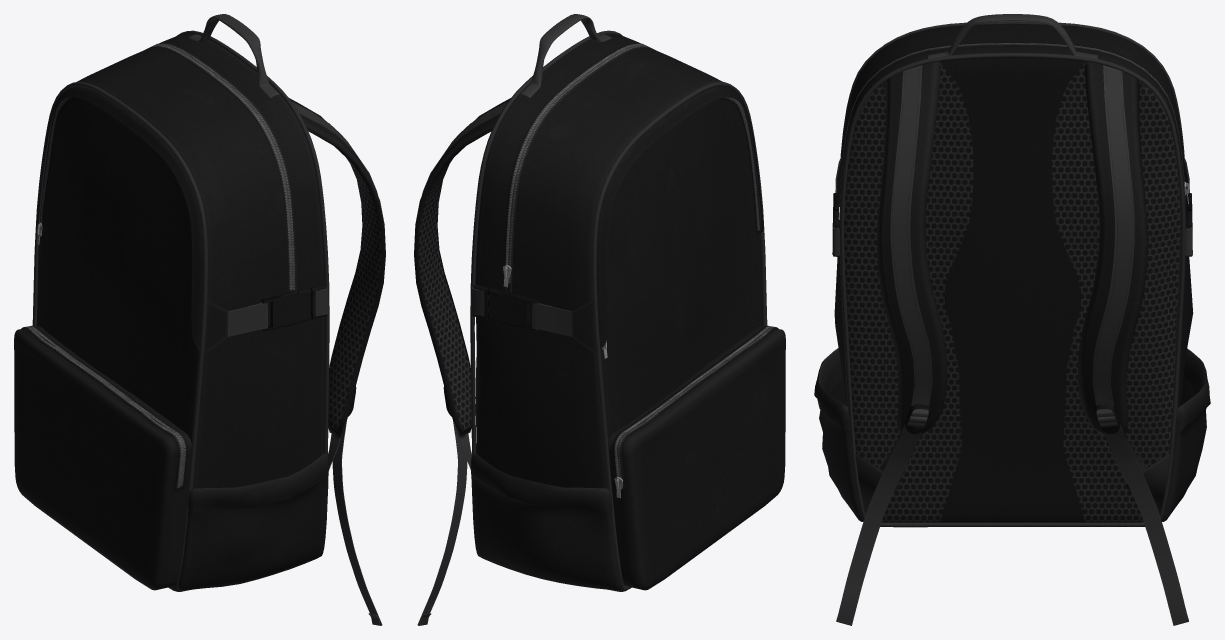
3 views of the same model, side by side, from view 1: azimuth 30°, elevation 25°; view 2: azimuth 150°, elevation 25°; view 3: azimuth 270°, elevation 25° (orthographic). The views are drawn at different scales.
Parts seen in each view (by area): view 1: Bag Base.007_3, Bag Base.014_8, Bag Base.009_4, Straps.001_17, Retopo_Lining 2.001_13, Bag Base.010_5, Bag Base.011_6, Adjustment Straps.001_2, Side Straps.001_15, Handle.001_10, Female Buckle.001_9, Bag Base.013_7 (+1 smaller); view 2: Bag Base.007_3, Bag Base.014_8, Bag Base.009_4, Straps.001_17, Retopo_Lining 2.001_13, Bag Base.010_5, Bag Base.011_6, Adjustment Straps.001_2, Side Straps.001_15, Handle.001_10, Female Buckle.001_9, Bag Base.013_7 (+1 smaller); view 3: Bag Base.007_3, Straps.001_17, Strap Adjustment Holder.001_16, Retopo_Lining 2.001_13, Bag Base.009_4, Adjustment Straps.001_2, Adjustment Strap Connectctors.001_1, Handle.001_10, Bag Base.011_6, Adjustment Bukle.001_0.
Boxes of the visible parts, x1,y1,x2,y2 form: Bag Base.007_3: (36, 33, 325, 488); Bag Base.014_8: (14, 326, 191, 590); Bag Base.009_4: (178, 453, 328, 590); Straps.001_17: (289, 98, 385, 435); Retopo_Lining 2.001_13: (32, 30, 329, 591); Bag Base.010_5: (36, 86, 203, 349); Bag Base.011_6: (145, 43, 297, 292); Adjustment Straps.001_2: (328, 408, 382, 625); Side Straps.001_15: (228, 287, 328, 336); Handle.001_10: (188, 14, 279, 98); Female Buckle.001_9: (261, 288, 310, 331); Bag Base.013_7: (28, 325, 187, 489); Bag Base.007_3: (475, 33, 763, 488); Bag Base.014_8: (608, 326, 785, 590); Bag Base.009_4: (471, 453, 621, 590); Straps.001_17: (414, 98, 510, 435); Retopo_Lining 2.001_13: (470, 30, 767, 591); Bag Base.010_5: (596, 86, 763, 349); Bag Base.011_6: (502, 43, 654, 292); Adjustment Straps.001_2: (417, 408, 471, 625); Side Straps.001_15: (471, 287, 571, 336); Handle.001_10: (520, 14, 611, 98); Female Buckle.001_9: (489, 288, 538, 331); Bag Base.013_7: (612, 325, 771, 487); Bag Base.007_3: (834, 23, 1193, 522); Straps.001_17: (877, 61, 1148, 435); Strap Adjustment Holder.001_16: (890, 65, 1134, 417); Retopo_Lining 2.001_13: (839, 22, 1185, 527); Bag Base.009_4: (814, 348, 1210, 521); Adjustment Straps.001_2: (836, 416, 1188, 625); Adjustment Strap Connectctors.001_1: (855, 453, 1169, 514); Handle.001_10: (927, 14, 1097, 58); Bag Base.011_6: (839, 42, 1186, 228); Adjustment Bukle.001_0: (905, 404, 1120, 434).
Bounding box in the file's own units: 0.9147 × 2 × 1.24.
2 materials, 2 textured.
